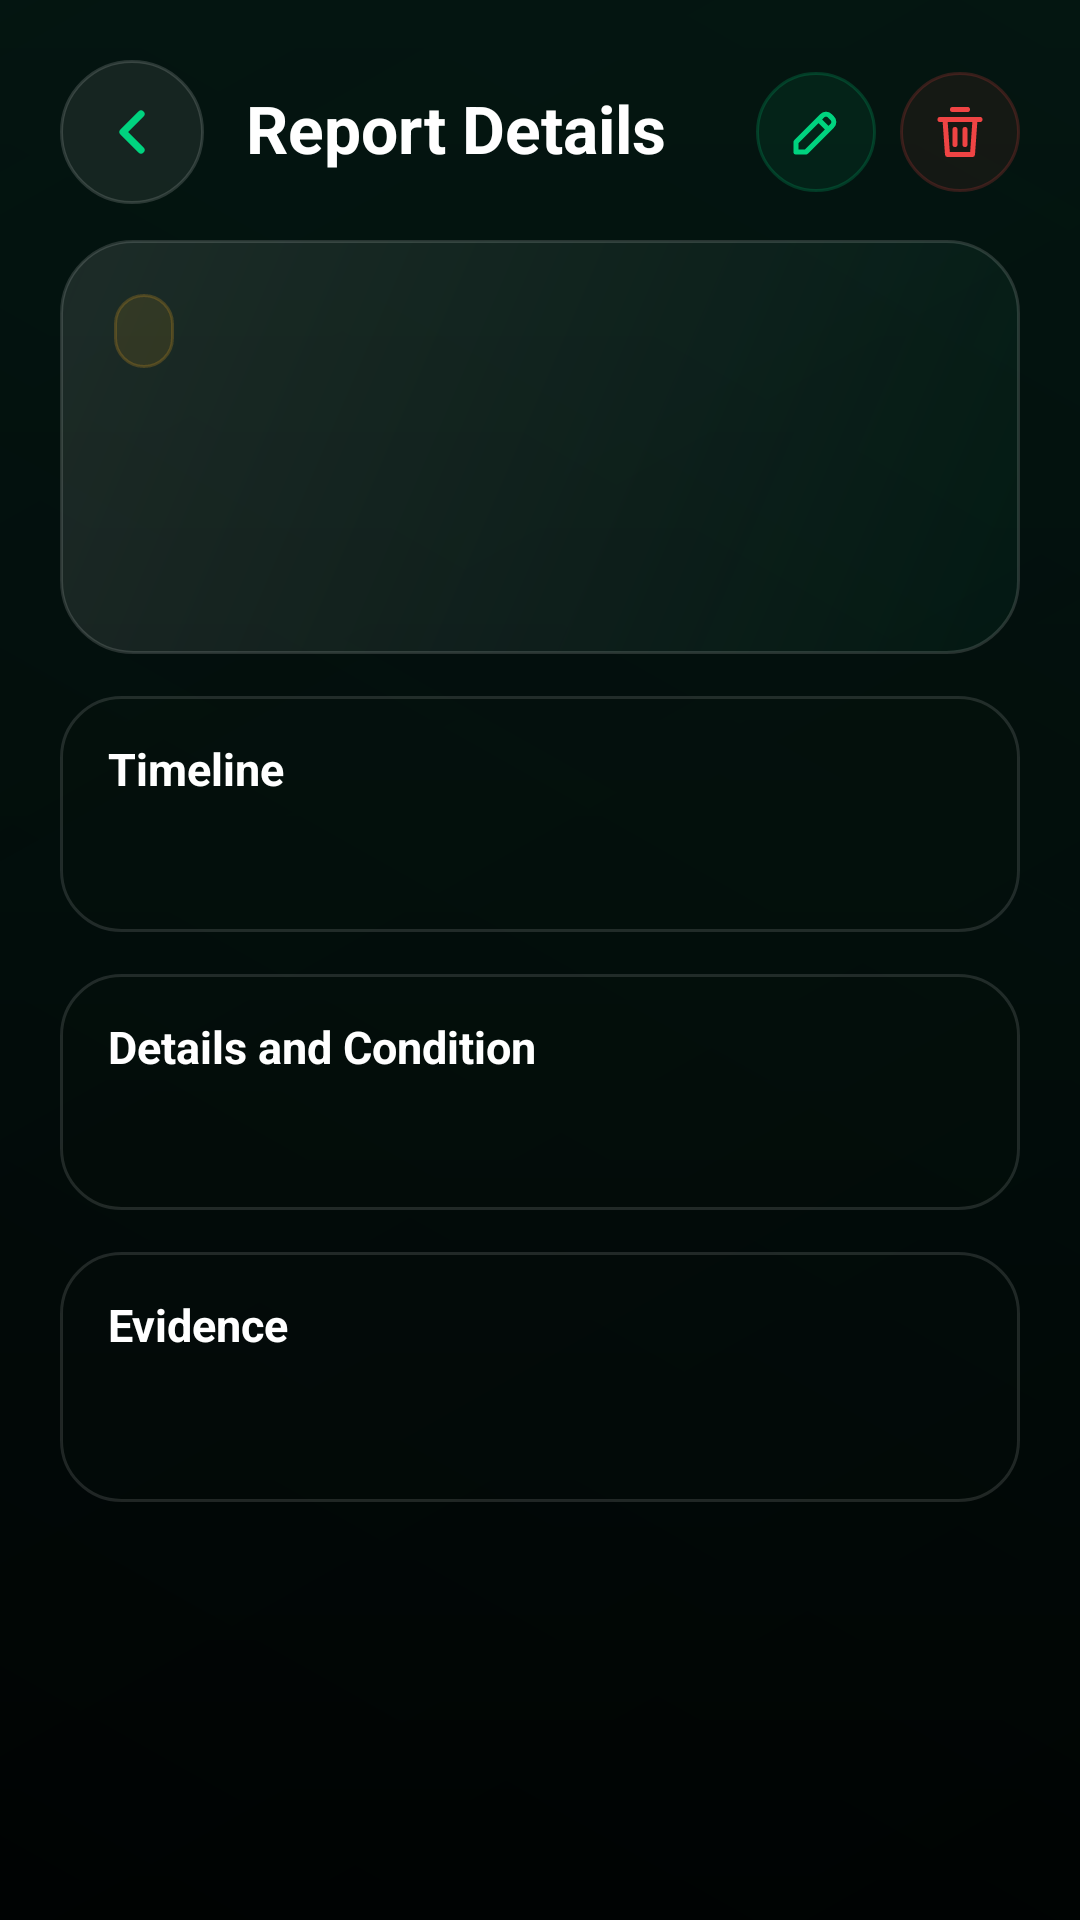

Screen size 1080*1920. Icon name, then its box in pixels as (x1=x1, y1=y1, x2=x2, y2=y2):
Back: (x1=60, y1=60, x2=204, y2=204)
Delete: (x1=900, y1=72, x2=1020, y2=192)
Edit: (x1=756, y1=72, x2=876, y2=192)
